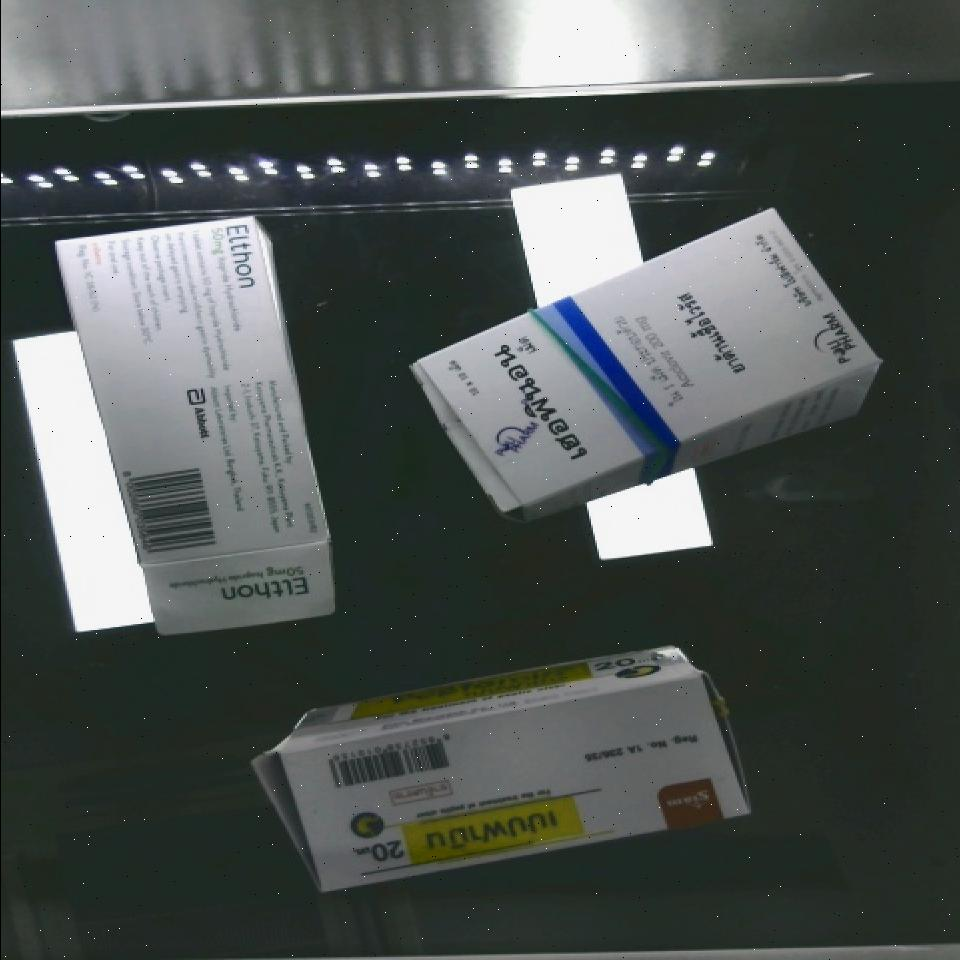medicine_box: (401, 196, 872, 527), (47, 205, 333, 655), (271, 666, 748, 897)
medicine_label_obb: (458, 316, 623, 497), (332, 783, 590, 883), (212, 217, 270, 319)
